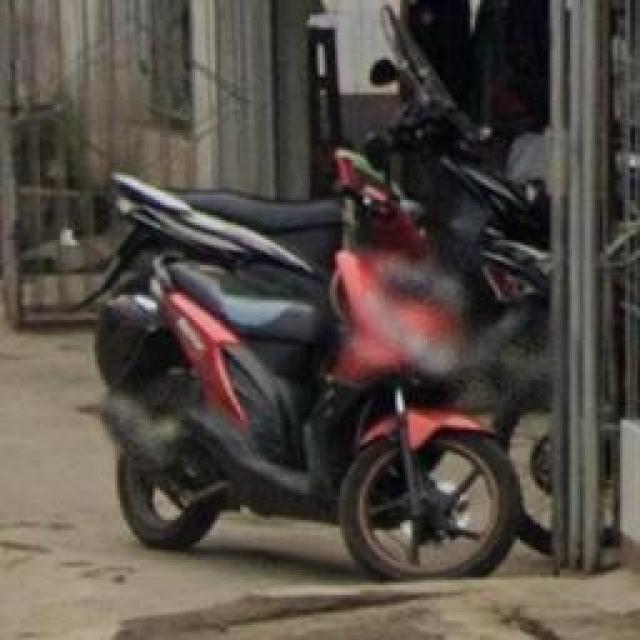motorbike: (65, 157, 518, 593)
